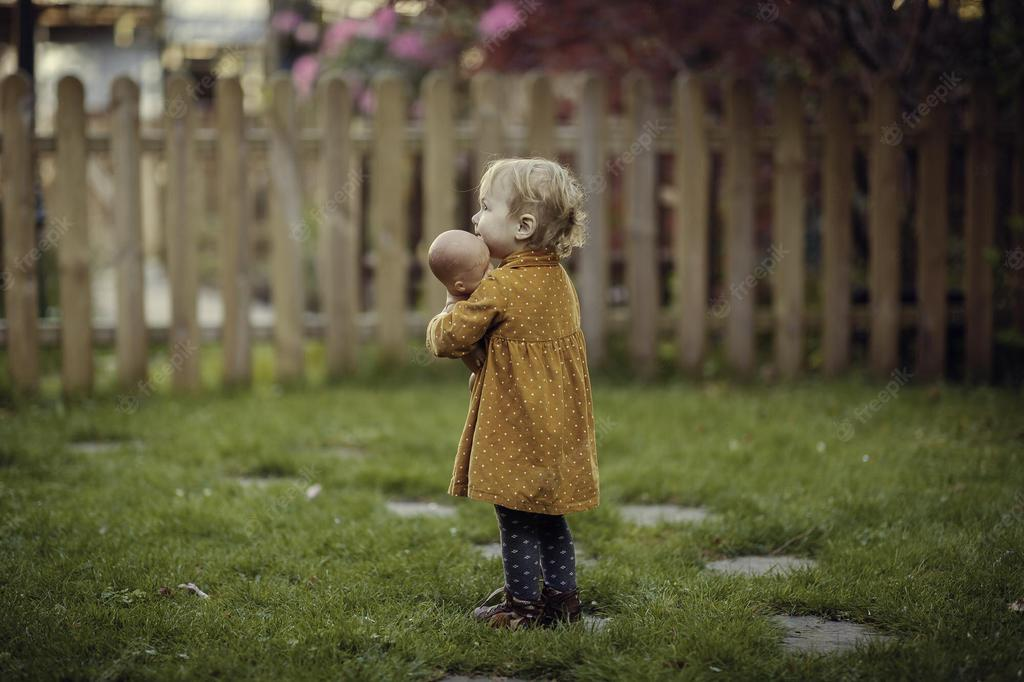child: (414, 148, 628, 628)
